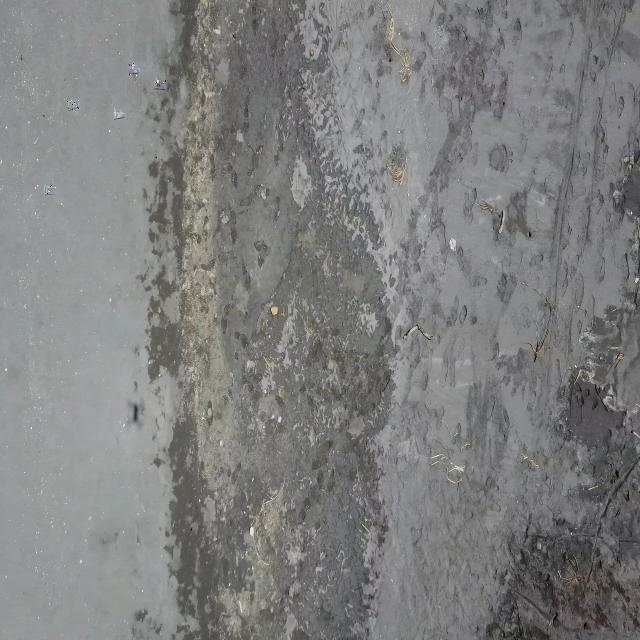takeaway-cup: (128, 62, 140, 76), (113, 107, 125, 120), (44, 184, 56, 196), (67, 100, 80, 111), (155, 78, 166, 90)
